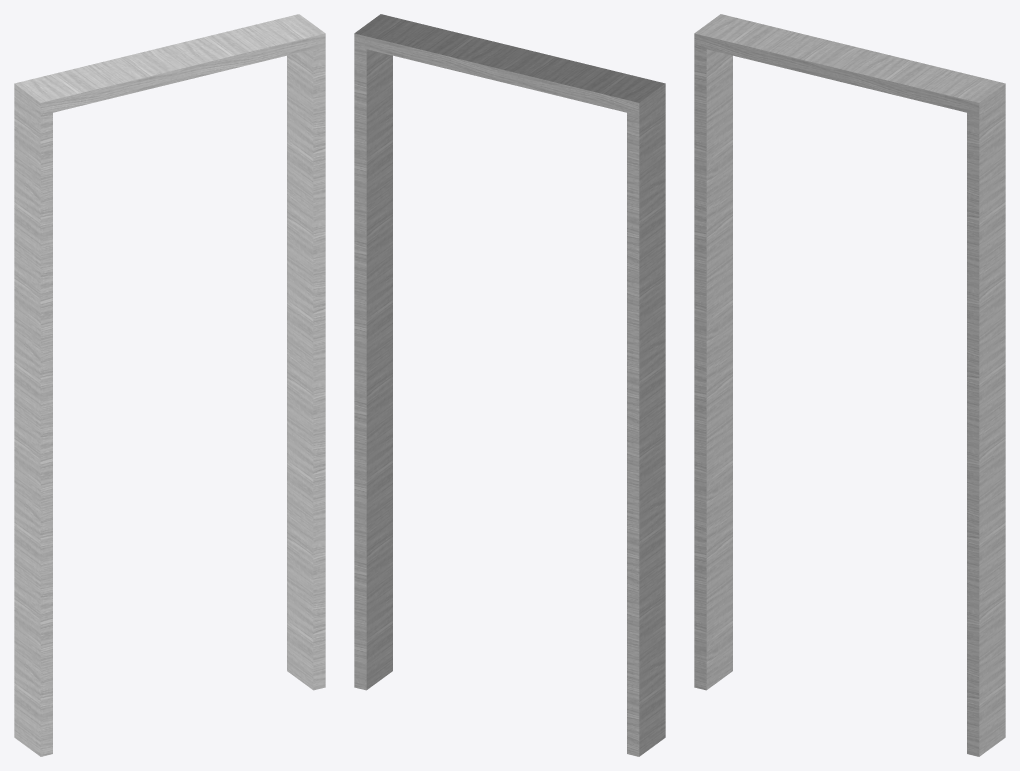
The model's file is FP330:StandardDoorFrame1_5c2f8030.obj.
3 views of the same model, side by side, from view 1: azimuth 30°, elevation 25°; view 2: azimuth 150°, elevation 25°; view 3: azimuth 330°, elevation 25° (orthographic).
Visible parts, largest first — view 1: FP330:StandardDoorFrame1_5c2f8030; view 2: FP330:StandardDoorFrame1_5c2f8030; view 3: FP330:StandardDoorFrame1_5c2f8030.
Boxes of the visible parts, x1,y1,x2,y2 form: FP330:StandardDoorFrame1_5c2f8030: [14, 14, 325, 756]; FP330:StandardDoorFrame1_5c2f8030: [354, 14, 665, 756]; FP330:StandardDoorFrame1_5c2f8030: [694, 14, 1005, 756].
Bounding box in the file's own units: 0.93 × 2.04 × 0.15.
